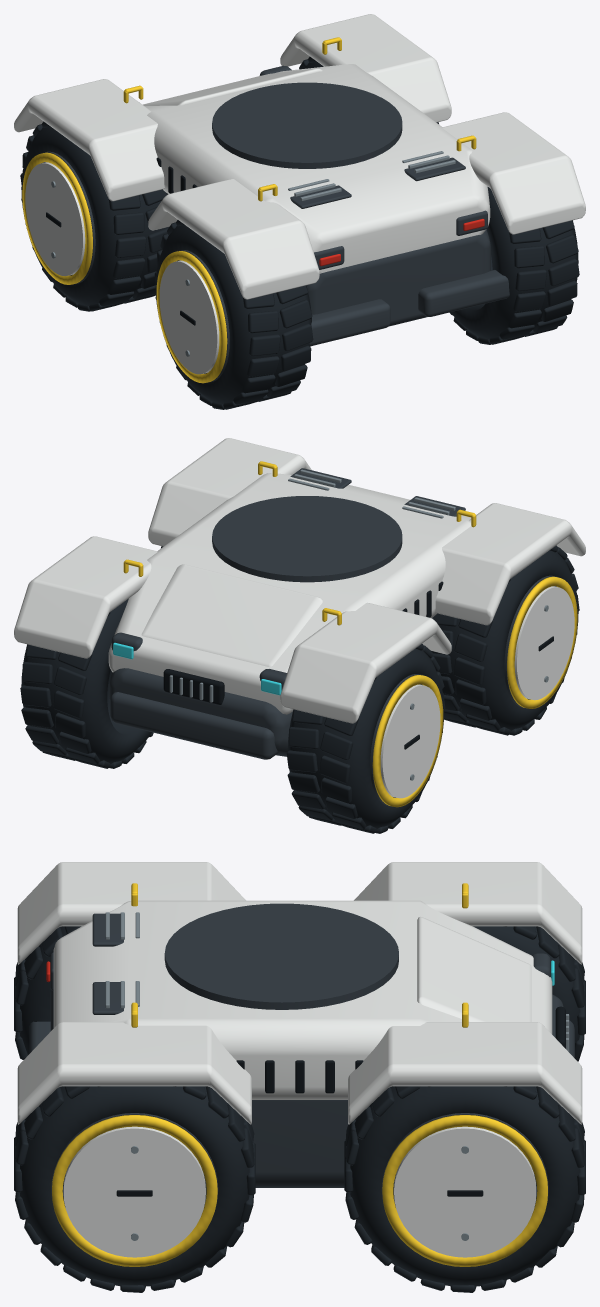
Rendered from scout_wheels.glb.
3 renders of one model, top to bottom at view 1: azimuth 30°, elevation 25°; view 2: azimuth 150°, elevation 25°; view 3: azimuth 270°, elevation 25°, orthographic. The views are drawn at different scales.
Parts seen in each view (by area): view 1: Main armored deck, Turret deck bearing, Fender, Fender.001, Fender.002, Lower monocoque, Fender.003, Tire, Tire.001, Flat wheel cover, Flat wheel cover.001, Tire.002 (+22 smaller); view 2: Main armored deck, Turret deck bearing, Front glacis, Fender.001, Fender.003, Fender, Fender.002, Tire.001, Tire, Tire.003, Front bumper, Flat wheel cover.001 (+20 smaller); view 3: Main armored deck, Turret deck bearing, Tire.003, Tire.002, Flat wheel cover.003, Flat wheel cover.002, Fender.003, Fender.002, Fender.001, Fender, Front glacis, Lower monocoque (+8 smaller).
Boxes of the visible parts, x1,y1,x2,y2 form: Main armored deck: (143, 64, 490, 273); Turret deck bearing: (212, 82, 402, 168); Fender: (148, 178, 319, 299); Fender.001: (14, 79, 164, 201); Fender.002: (442, 112, 585, 234); Lower monocoque: (166, 193, 490, 326); Fender.003: (280, 14, 451, 122); Tire: (155, 225, 311, 404); Tire.001: (21, 126, 169, 306); Flat wheel cover: (159, 260, 219, 374); Flat wheel cover.001: (25, 162, 85, 276); Tire.002: (451, 187, 578, 339); Main armored deck: (108, 473, 471, 714); Turret deck bearing: (212, 496, 402, 582); Front glacis: (141, 564, 322, 667); Fender.001: (280, 602, 451, 723); Fender.003: (14, 536, 157, 658); Fender: (435, 503, 585, 625); Fender.002: (148, 438, 311, 546); Tire.001: (287, 648, 444, 828); Tire: (431, 550, 578, 730); Tire.003: (21, 598, 151, 764); Front bumper: (110, 692, 278, 759); Flat wheel cover.001: (380, 684, 440, 798); Main armored deck: (53, 900, 552, 1099); Turret deck bearing: (164, 903, 398, 1009); Tire.003: (350, 1086, 580, 1286); Tire.002: (20, 1086, 249, 1286); Flat wheel cover.003: (394, 1126, 536, 1257); Flat wheel cover.002: (63, 1126, 205, 1257); Fender.003: (348, 1022, 582, 1124); Fender.002: (17, 1022, 251, 1124); Fender.001: (354, 862, 582, 964); Fender: (17, 862, 245, 964); Front glacis: (417, 917, 531, 1021); Lower monocoque: (50, 990, 563, 1187).
Bounding box in the file's own units: 1.7 × 0.911 × 1.9.
